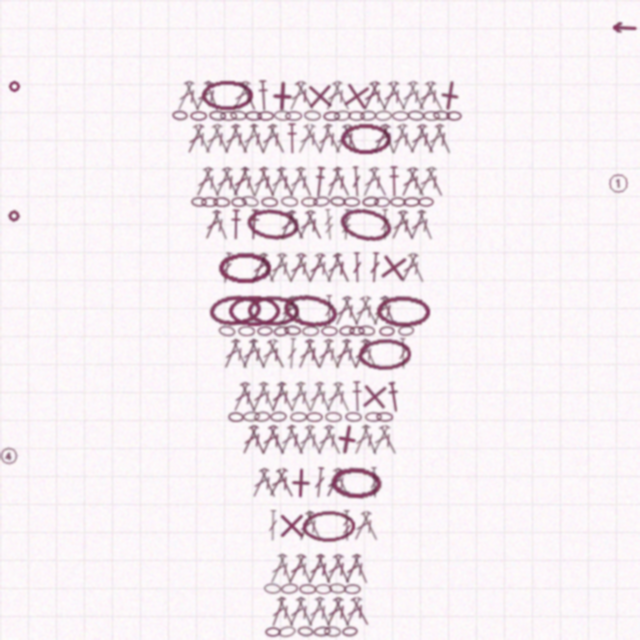chain: (337, 204, 395, 245), (281, 291, 339, 330), (245, 206, 300, 243), (208, 293, 263, 328), (330, 466, 383, 499), (358, 338, 412, 370), (376, 295, 430, 327), (302, 510, 355, 542), (247, 295, 299, 327), (218, 252, 271, 283), (228, 295, 280, 326), (340, 123, 392, 154), (201, 80, 253, 111), (278, 625, 296, 638), (241, 195, 259, 208), (218, 325, 236, 337), (273, 325, 290, 337), (313, 626, 331, 637), (407, 110, 425, 121), (297, 626, 314, 637), (324, 626, 341, 637), (264, 583, 281, 594), (281, 583, 298, 594), (329, 583, 346, 594), (243, 411, 260, 422), (270, 411, 287, 422), (284, 325, 301, 336), (358, 325, 375, 336), (281, 196, 298, 207), (313, 196, 330, 207), (362, 196, 379, 207), (209, 110, 226, 121), (230, 110, 247, 121), (274, 110, 291, 121), (304, 110, 321, 121), (334, 110, 351, 121), (375, 110, 392, 121), (433, 110, 450, 121), (342, 626, 358, 637), (254, 411, 270, 422), (339, 325, 355, 336), (398, 325, 414, 336), (330, 196, 346, 207), (172, 110, 188, 121), (360, 110, 376, 121), (299, 584, 316, 594), (315, 584, 332, 594), (344, 584, 361, 594), (290, 412, 307, 422), (306, 412, 323, 422), (325, 412, 342, 422), (345, 412, 362, 422), (365, 412, 382, 422), (376, 412, 393, 422), (238, 326, 255, 336), (302, 326, 319, 336), (321, 326, 338, 336), (201, 197, 218, 207), (213, 197, 230, 207), (261, 197, 278, 207), (301, 197, 318, 207), (343, 197, 360, 207), (403, 197, 420, 207), (190, 111, 207, 121), (220, 111, 237, 121), (245, 111, 262, 121), (257, 111, 274, 121), (285, 111, 302, 121), (323, 111, 340, 121), (348, 111, 365, 121), (392, 111, 409, 121), (423, 111, 440, 121), (265, 627, 281, 637), (228, 412, 244, 422), (257, 326, 273, 336), (349, 326, 365, 336), (379, 326, 395, 336), (191, 197, 207, 207), (231, 197, 247, 207), (374, 197, 390, 207), (390, 197, 406, 207), (418, 197, 434, 207), (446, 111, 462, 121)
double: (293, 80, 317, 111), (285, 553, 308, 585), (274, 467, 297, 499), (369, 424, 392, 456), (377, 424, 400, 456), (265, 338, 288, 370), (358, 295, 381, 327), (266, 252, 289, 284), (367, 166, 390, 198), (405, 166, 428, 198), (191, 123, 214, 155), (321, 123, 344, 155), (395, 123, 418, 155), (192, 80, 215, 112), (330, 80, 353, 112), (367, 80, 390, 112), (386, 80, 409, 112), (415, 80, 438, 112), (423, 80, 446, 112), (349, 596, 372, 627), (266, 467, 289, 498), (415, 166, 438, 197), (302, 123, 325, 154), (275, 596, 297, 628), (294, 596, 316, 628), (323, 596, 345, 628), (331, 596, 353, 628), (342, 596, 364, 628), (267, 553, 289, 585), (305, 553, 327, 585), (323, 553, 345, 585), (331, 553, 353, 585), (303, 510, 325, 542), (351, 510, 373, 542), (359, 510, 381, 542), (249, 467, 271, 499), (257, 467, 279, 499), (323, 467, 345, 499), (331, 467, 353, 499), (239, 424, 261, 456), (258, 424, 280, 456), (266, 424, 288, 456), (285, 424, 307, 456), (295, 424, 317, 456), (303, 424, 325, 456), (314, 424, 336, 456), (322, 424, 344, 456), (230, 381, 252, 413), (275, 381, 297, 413), (323, 381, 345, 413), (331, 381, 353, 413), (229, 338, 251, 370), (247, 338, 269, 370), (258, 338, 280, 370), (277, 295, 299, 327), (285, 295, 307, 327), (332, 295, 354, 327), (340, 295, 362, 327), (351, 295, 373, 327), (286, 252, 308, 284), (305, 252, 327, 284), (313, 252, 335, 284), (331, 252, 353, 284), (398, 252, 420, 284), (285, 209, 307, 241), (295, 209, 317, 241), (303, 209, 325, 241), (388, 209, 410, 241), (193, 166, 215, 198), (201, 166, 223, 198), (212, 166, 234, 198), (220, 166, 242, 198), (275, 166, 297, 198), (331, 166, 353, 198), (398, 166, 420, 198), (424, 166, 446, 198), (184, 123, 206, 155), (202, 123, 224, 155), (210, 123, 232, 155), (229, 123, 251, 155), (266, 123, 288, 155), (295, 123, 317, 155), (332, 123, 354, 155), (340, 123, 362, 155), (370, 123, 392, 155), (407, 123, 429, 155), (415, 123, 437, 155), (174, 80, 196, 112), (230, 80, 252, 112), (286, 80, 308, 112), (360, 80, 382, 112), (379, 80, 401, 112), (398, 80, 420, 112), (406, 80, 428, 112), (286, 596, 307, 628), (305, 596, 326, 628), (313, 596, 334, 628), (294, 553, 315, 585), (342, 553, 363, 585), (350, 553, 371, 585), (247, 424, 268, 456), (277, 424, 298, 456), (351, 424, 372, 456), (238, 381, 259, 413), (249, 381, 270, 413), (257, 381, 278, 413), (294, 381, 315, 413), (313, 381, 334, 413), (221, 338, 242, 370), (239, 338, 260, 370), (295, 338, 316, 370), (303, 338, 324, 370), (322, 338, 343, 370), (332, 338, 353, 370), (340, 338, 361, 370), (351, 338, 372, 370), (359, 338, 380, 370), (370, 295, 391, 327), (378, 295, 399, 327), (249, 252, 270, 284), (257, 252, 278, 284), (275, 252, 296, 284), (294, 252, 315, 284), (323, 252, 344, 284), (406, 252, 427, 284), (202, 209, 223, 241), (210, 209, 231, 241), (277, 209, 298, 241), (396, 209, 417, 241), (407, 209, 428, 241), (415, 209, 436, 241), (230, 166, 251, 198), (257, 166, 278, 198), (267, 166, 288, 198), (286, 166, 307, 198), (294, 166, 315, 198), (360, 166, 381, 198), (221, 123, 242, 155), (239, 123, 260, 155), (258, 123, 279, 155), (425, 123, 446, 155), (433, 123, 454, 155), (182, 80, 203, 112), (238, 80, 259, 112), (323, 80, 344, 112), (268, 596, 288, 628), (314, 553, 334, 585), (296, 510, 316, 542), (360, 424, 380, 456), (268, 381, 288, 413), (287, 381, 307, 413), (306, 381, 326, 413), (315, 338, 335, 370), (239, 166, 259, 198), (250, 166, 270, 198), (324, 166, 344, 198), (248, 123, 268, 155), (389, 123, 409, 155), (202, 80, 222, 112), (276, 553, 295, 585), (315, 123, 334, 155), (379, 123, 398, 155), (220, 252, 234, 284), (313, 467, 326, 498), (286, 338, 298, 369), (369, 252, 381, 283), (369, 467, 380, 498), (351, 166, 362, 197), (268, 510, 278, 541), (398, 338, 408, 369), (324, 295, 334, 326), (352, 252, 362, 283), (380, 209, 390, 240)
half_double: (386, 381, 402, 413), (312, 166, 327, 198), (247, 209, 261, 240), (257, 80, 270, 111), (351, 381, 363, 412), (230, 209, 242, 240), (388, 166, 400, 197), (286, 123, 298, 154)
noise: (607, 172, 629, 194), (0, 445, 19, 466), (610, 22, 637, 33), (7, 209, 21, 223), (8, 80, 20, 92)
single: (339, 78, 374, 114), (376, 250, 411, 285), (432, 78, 467, 113), (330, 422, 364, 457), (358, 380, 391, 413), (285, 467, 317, 499), (266, 80, 298, 112), (304, 80, 336, 112), (276, 510, 307, 541)
treble: (323, 209, 335, 240), (341, 209, 352, 240), (342, 510, 352, 541)
